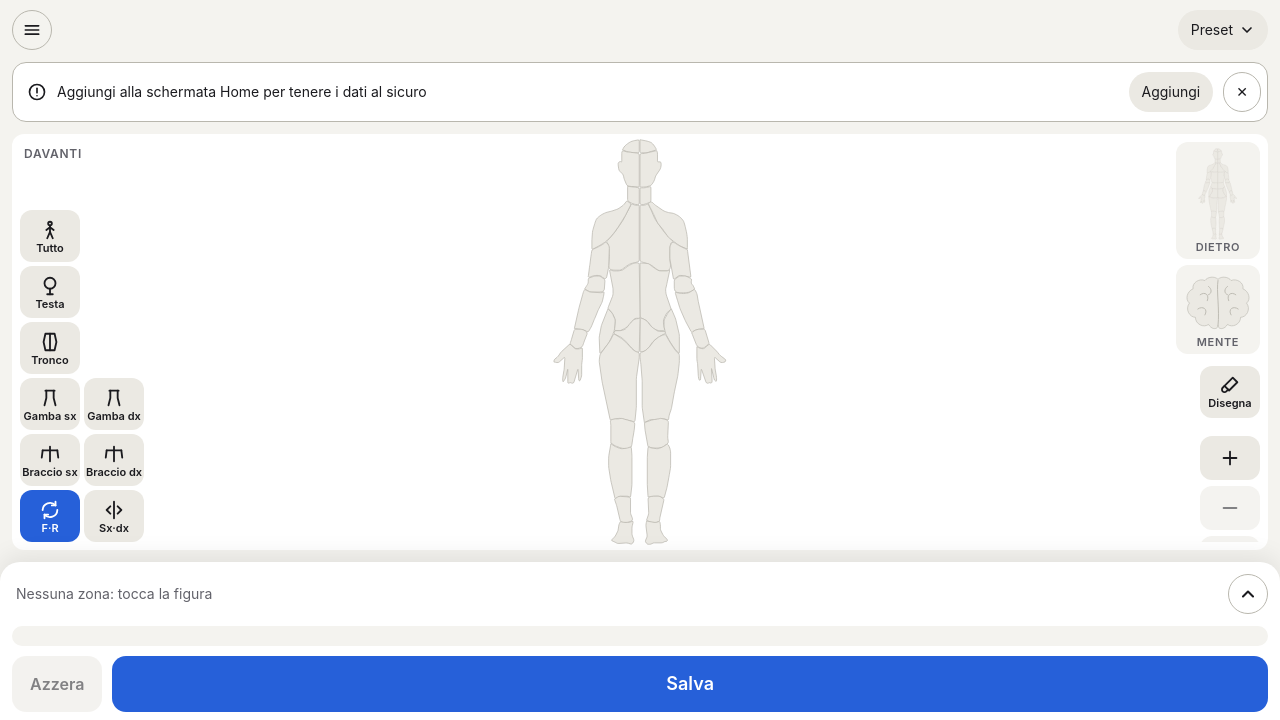
Scenario: Diary list › shows the symptom name, tags, duration, level trail and note of an episode
Click the button named "Menu". click: (32, 30)
box: left=12, top=10, right=52, bottom=50
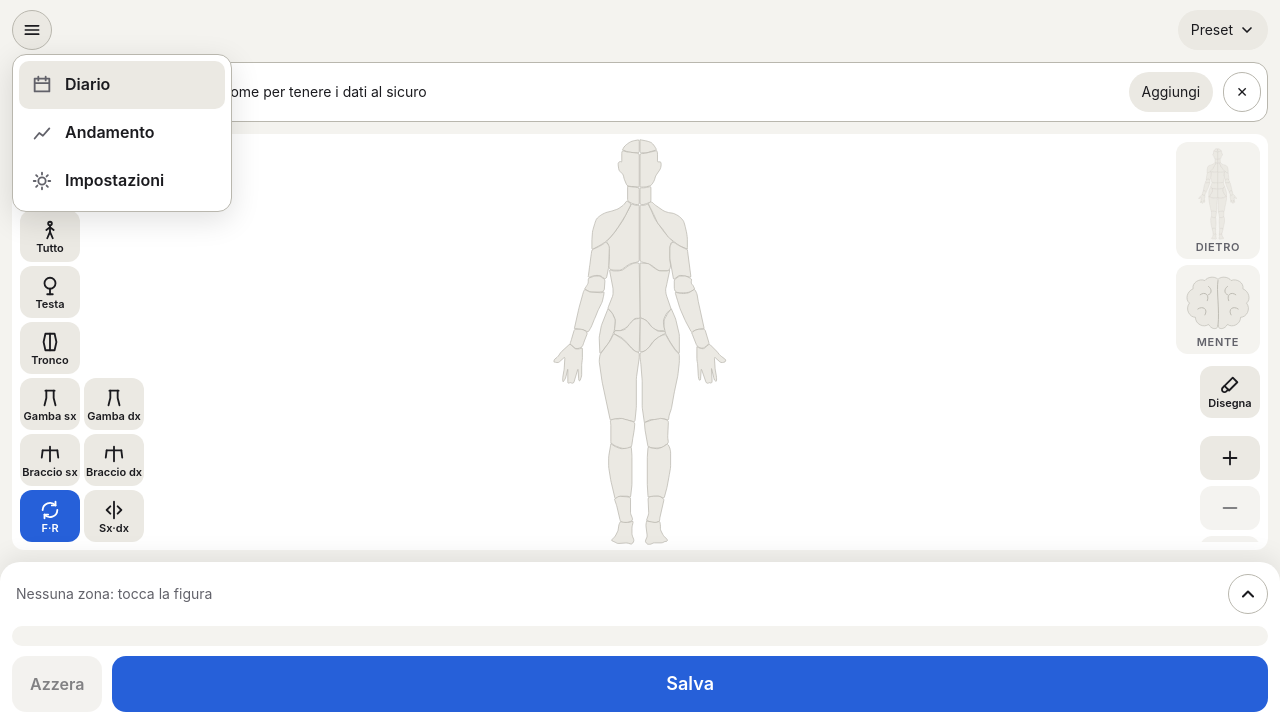
Click the menu item "Diario". click: (122, 85)
box: left=19, top=61, right=225, bottom=109
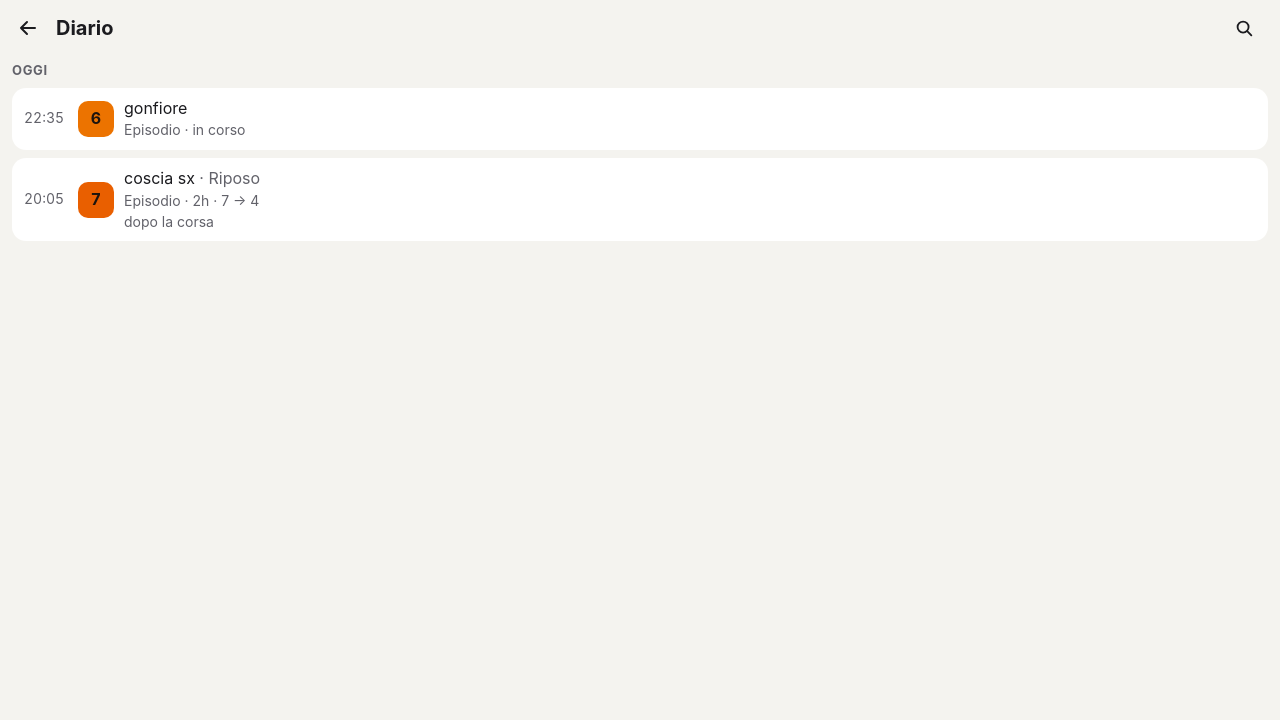
Result: the number of buttons "22:35 6 gonfiore Episodio · in corso" is 2 at left=12, top=88, right=1268, bottom=150; left=12, top=158, right=1268, bottom=241
Result: the text "6" is shown at left=78, top=101, right=114, bottom=137
Result: the button "22:35 6 gonfiore Episodio · in corso" is shown at left=12, top=88, right=1268, bottom=150
